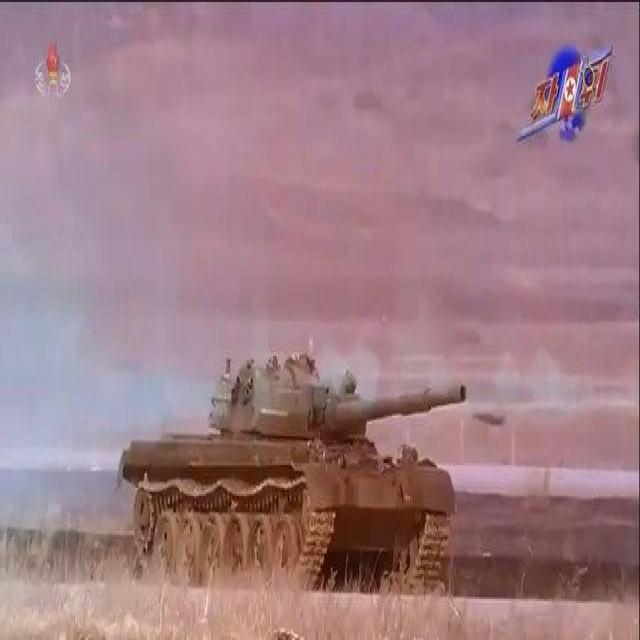north tank: (104, 329, 509, 640)
